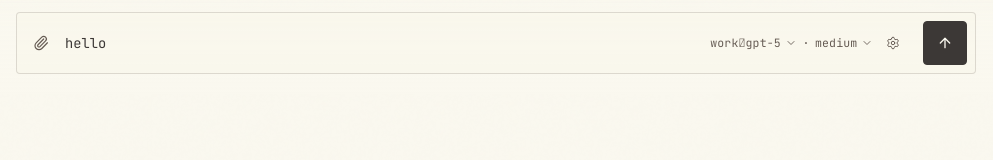
Test case: ChatComposer › shows a loading placeholder while profile models are being fetched
What coordinates should you click on to do the following:
click the dropdown named "Model quick pick"
I would click on:
 (754, 43)
Its box is [710,21,797,65].
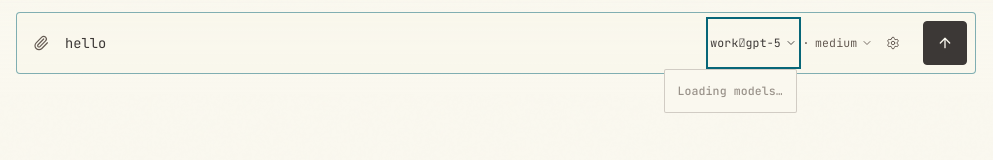
Expected: the option "Loading models…" is disabled, [668,74,792,108]
